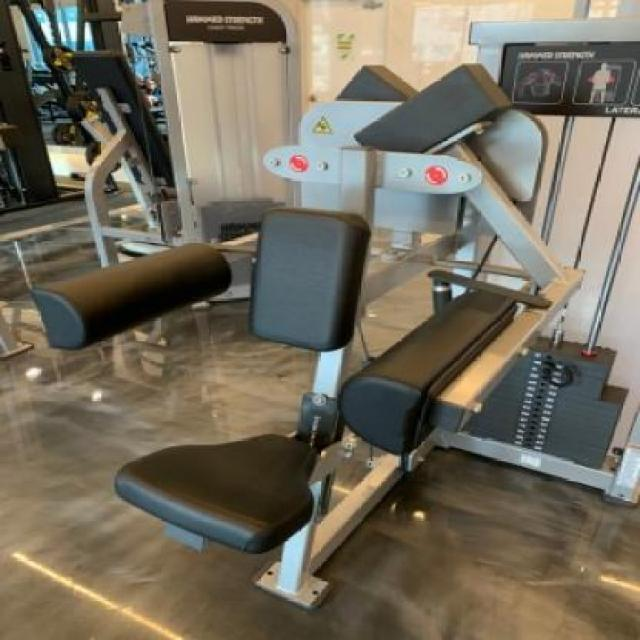lateral raises machine: (26, 206, 640, 614)
